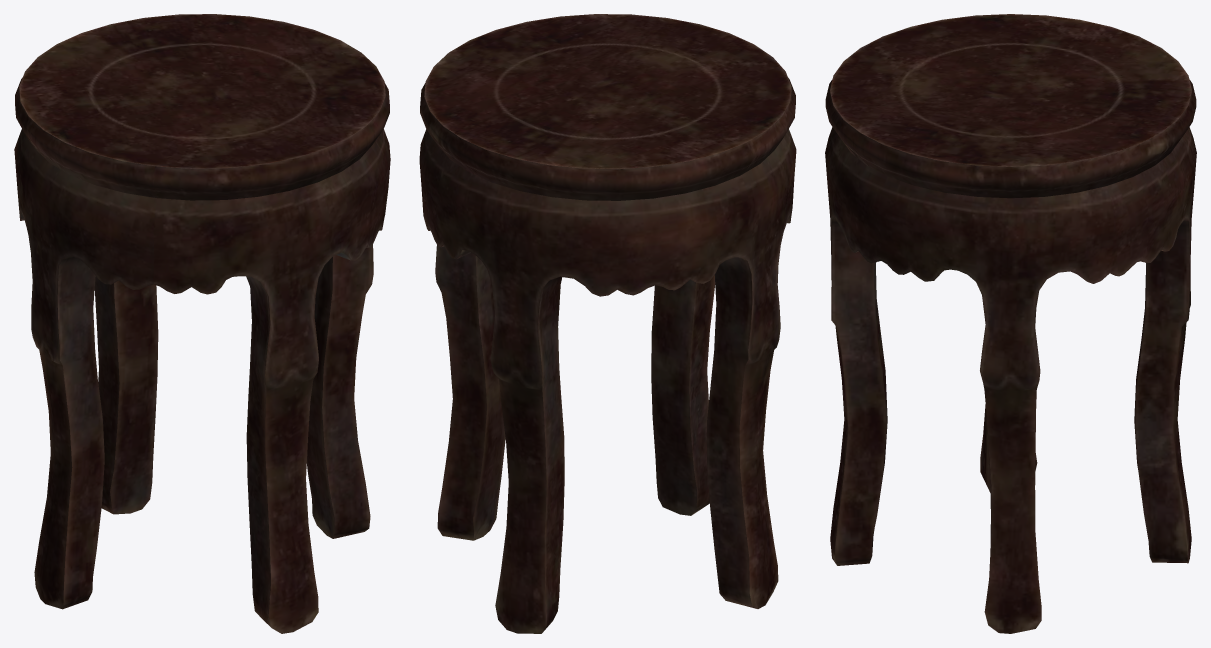
Rendered from wooden-table-02-poly-haven.glb.
3 views of the same model, side by side, from view 1: azimuth 30°, elevation 25°; view 2: azimuth 150°, elevation 25°; view 3: azimuth 270°, elevation 25° (orthographic).
Visible parts, largest first — view 1: WoodenTable_02; view 2: WoodenTable_02; view 3: WoodenTable_02.
Part boxes in pixels (x1,y1,x2,y2): WoodenTable_02: (14, 14, 390, 633); WoodenTable_02: (419, 14, 796, 633); WoodenTable_02: (825, 14, 1196, 633).
Size of the model in its own units: 0.3007 by 0.4177 by 0.3007.
1 material, 1 textured.
